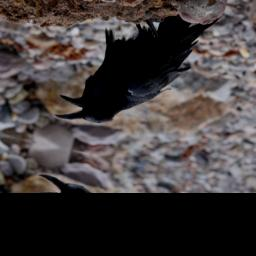Crow: (54, 0, 223, 146)
